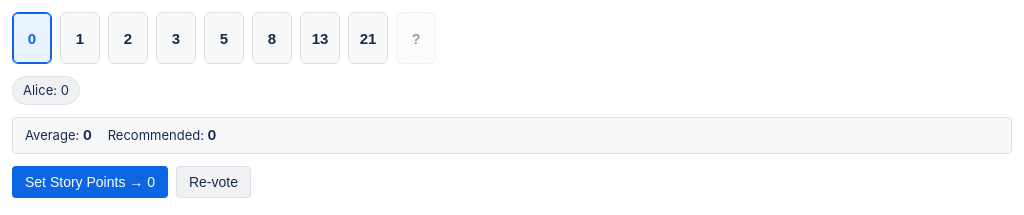
Test: ScrumPokerApp revealed-state controls, consensus override, write-back, and clipboard fallback (R13) › saves score 0 via Set Story Points, refreshes issue view once, shows confirmation on cleared idle panel, and clears banner on next vote
Click the button with test id "apply-story-points-button": {"x": 90, "y": 182} [12,166,168,198]
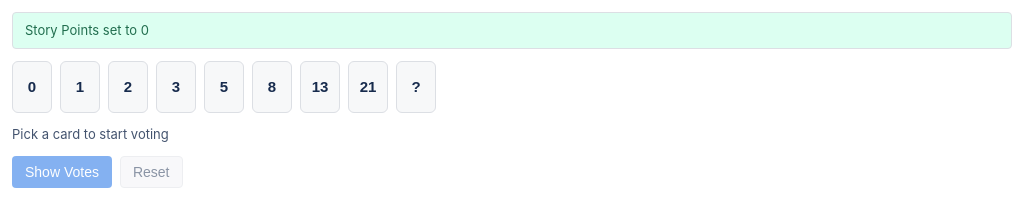
Expected: the message with test id "points-applied-banner" reads "Story Points set to 0", [12,12,1012,49]
Expected: the text with test id "empty-voters-prompt" reads "Pick a card to start voting", [12,126,169,142]
# Casting a new vote clears the post-save confirmation banner
Click the button with test id "poker-card-3": {"x": 176, "y": 87} [156,61,196,113]
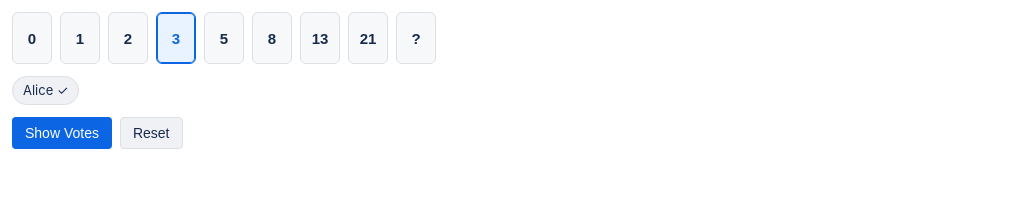
Expected: the message with test id "points-applied-banner" is gone
